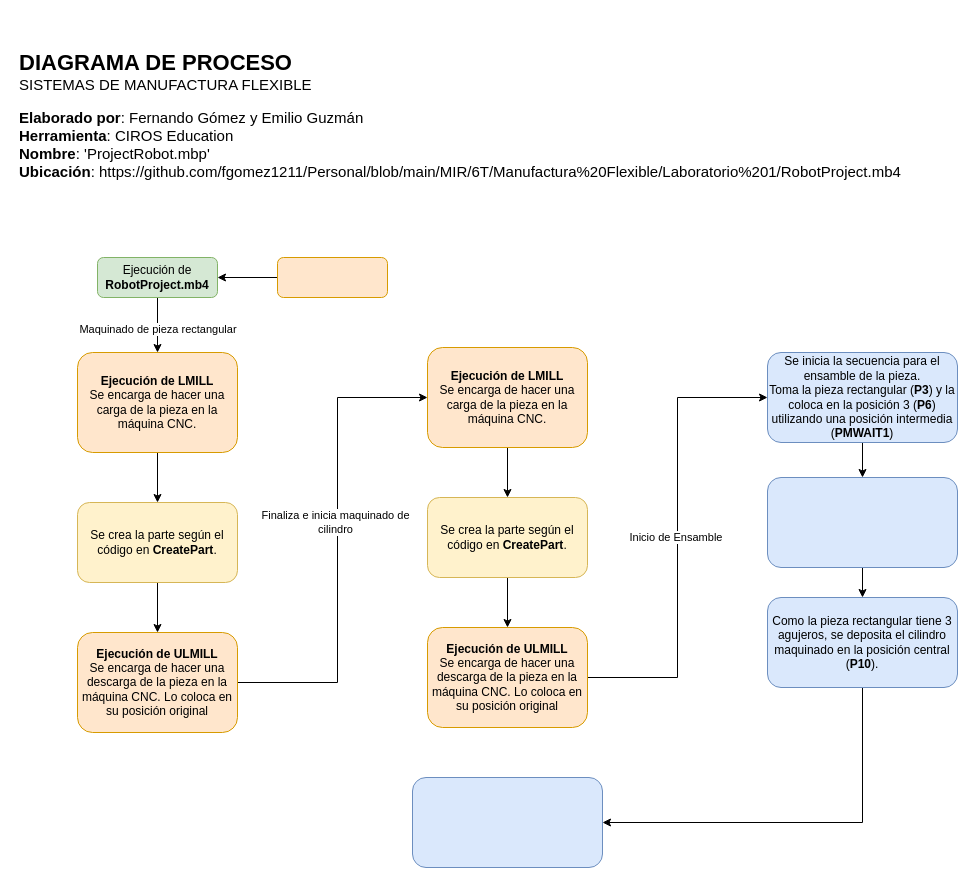
This 975x885 diagram has some shape labels left out. Here are the shapes that lost their labels. From the top down, the centre of each, then its label:
At (x=332, y=277): "RobotProject.pos".
At (x=862, y=522): "Regresa a la posición intermedia y luego se mueve para tomar el cilindro ( P7 ).".
At (x=507, y=822): "Finaliza el proceso con la sección END .".
